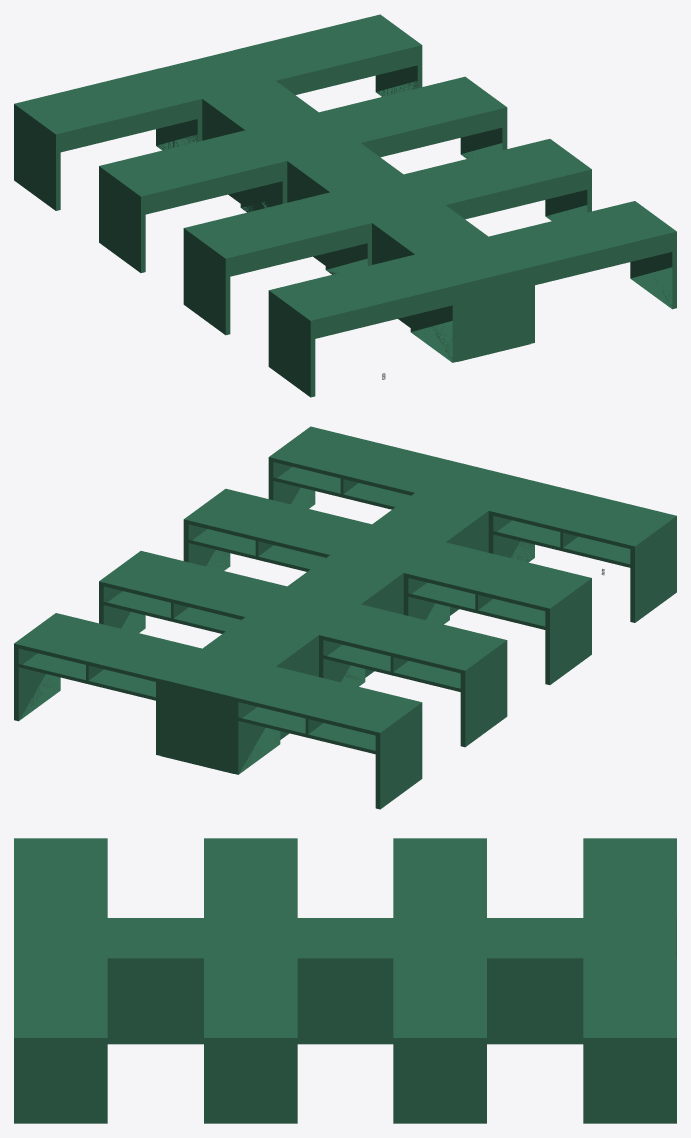
Rendered from shelf.fbx.
3 renders of one model, top to bottom at view 1: azimuth 30°, elevation 25°; view 2: azimuth 150°, elevation 25°; view 3: azimuth 270°, elevation 25°, orthographic. The views are drawn at different scales.
Parts seen in each view (by area): view 1: Cube.001; view 2: Cube.001; view 3: Cube.001.
Boxes of the visible parts, <box> form: Cube.001: <box>14,14,676,397</box>; Cube.001: <box>14,426,676,809</box>; Cube.001: <box>14,838,676,1123</box>.
Bounding box in the file's own units: 500 × 100 × 701.
